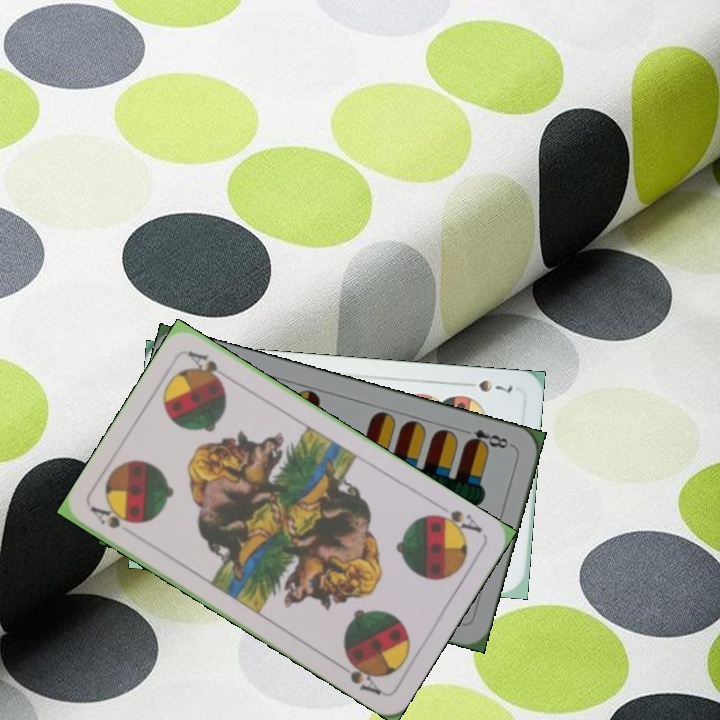E8: (457, 425, 515, 452)
S7: (474, 376, 516, 396)
SA: (427, 506, 485, 539), (87, 502, 138, 531)
